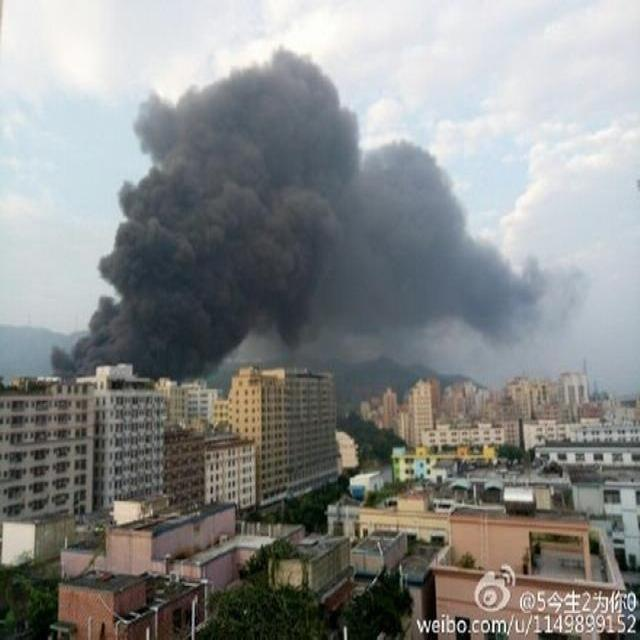Smoke: (49, 46, 592, 385)
